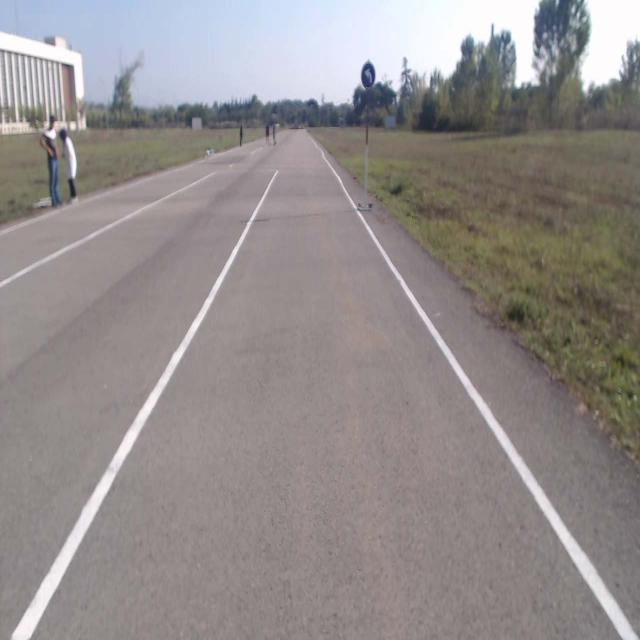sol: (361, 61, 375, 88)
